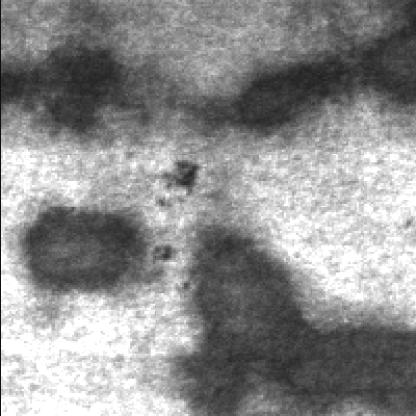patches: (183, 235, 416, 416), (6, 40, 158, 146), (214, 48, 360, 148), (25, 206, 168, 298), (358, 19, 416, 110)
